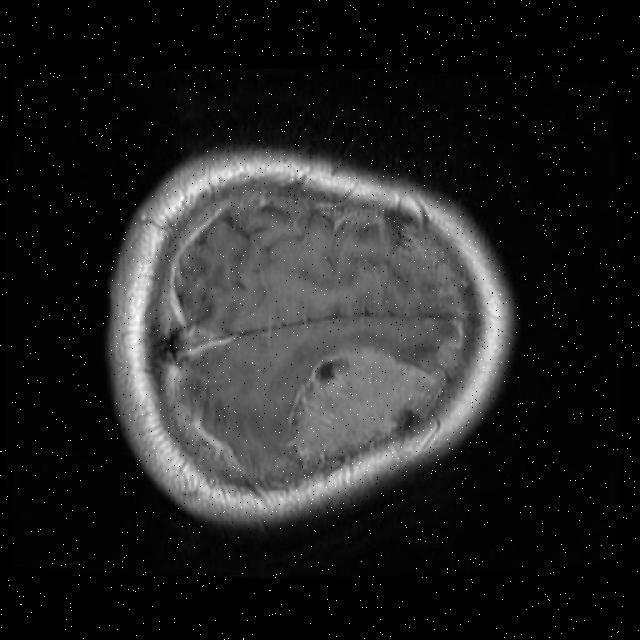Meningioma: (288, 347, 443, 473)
